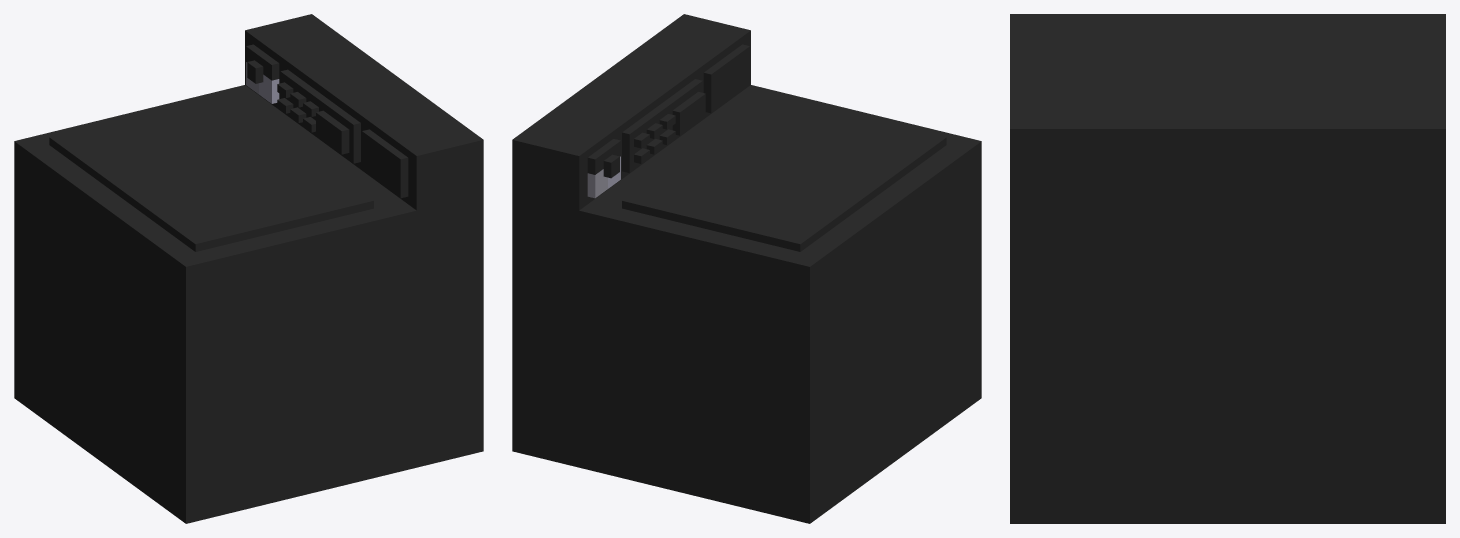
Rendered from washingmachine.obj.
3 views of the same model, side by side, from view 1: azimuth 30°, elevation 25°; view 2: azimuth 150°, elevation 25°; view 3: azimuth 270°, elevation 25° (orthographic). The views are drawn at different scales.
Parts seen in each view (by area): view 1: washingmachine; view 2: washingmachine; view 3: washingmachine.
Part boxes in pixels (<box>): washingmachine: <box>14,14,483,523</box>; washingmachine: <box>512,14,981,523</box>; washingmachine: <box>1010,14,1445,523</box>.
Bounding box in the file's own units: 40 × 40 × 40.
Materials: 1 (1 with a texture image).
